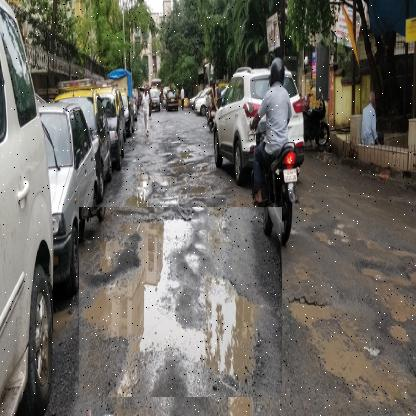damage: (148, 131, 224, 221)
pothole_water_m: (78, 207, 282, 398)
